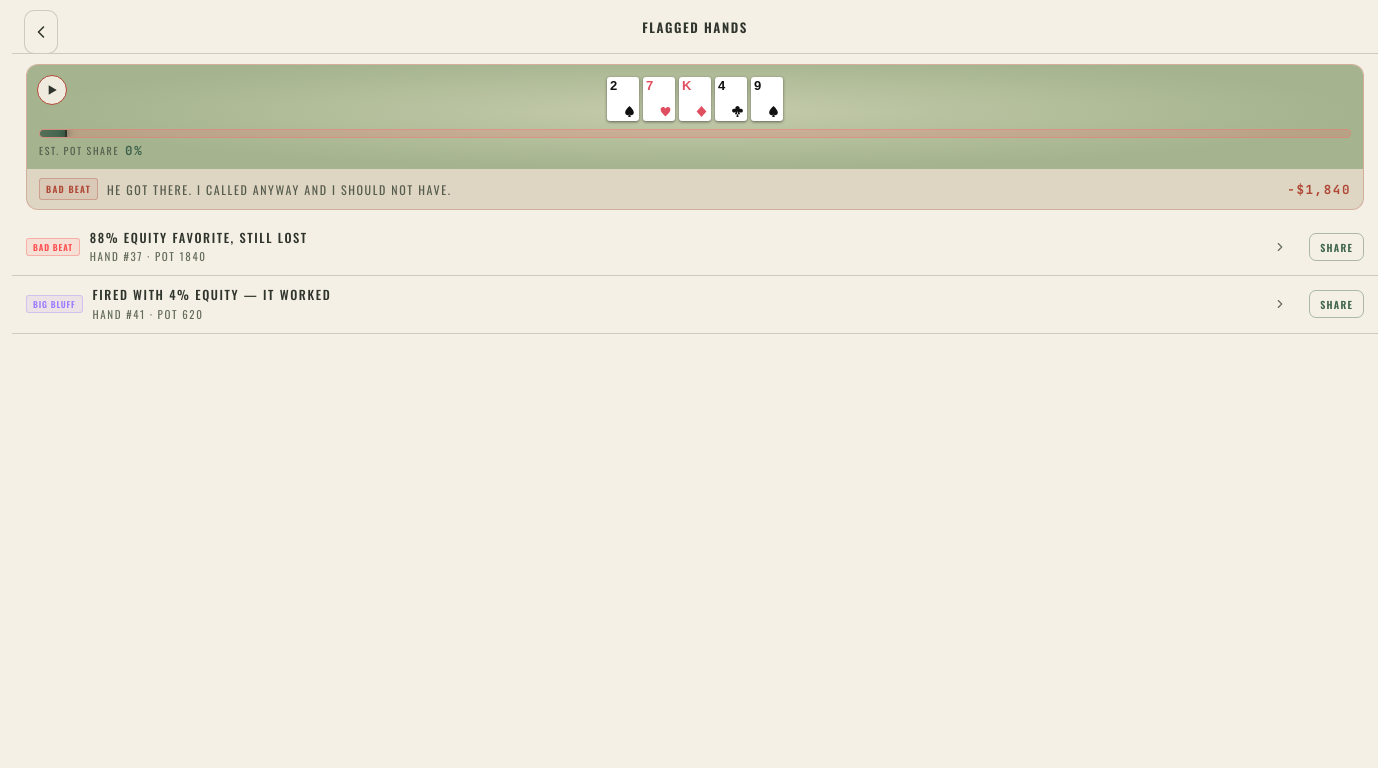
Test: FlaggedHandsSheet hand review › BUG-18: says nothing when the pot was won without a showdown
// The big bluff took it down uncontested, so opponentShowdownCards is empty.
Click the text "Fired with 4% equity — it worked" at (212, 295), box [92,285,331,304]
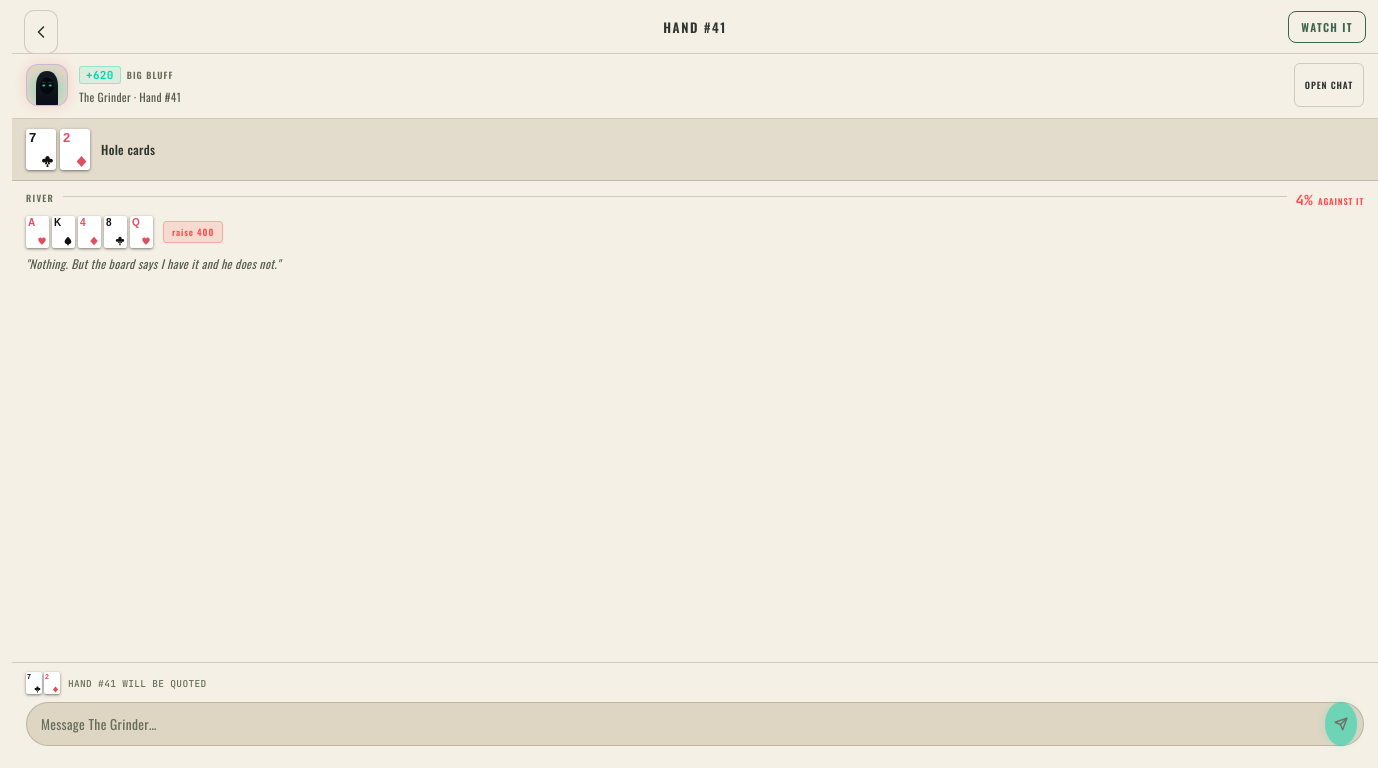
Result: the text "Hole cards" is shown at [101,140,155,159]
